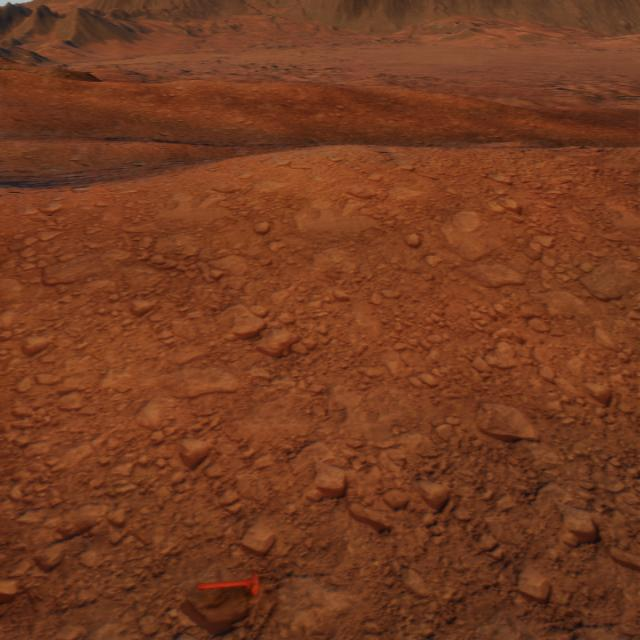newhammer: (198, 569, 258, 595)
